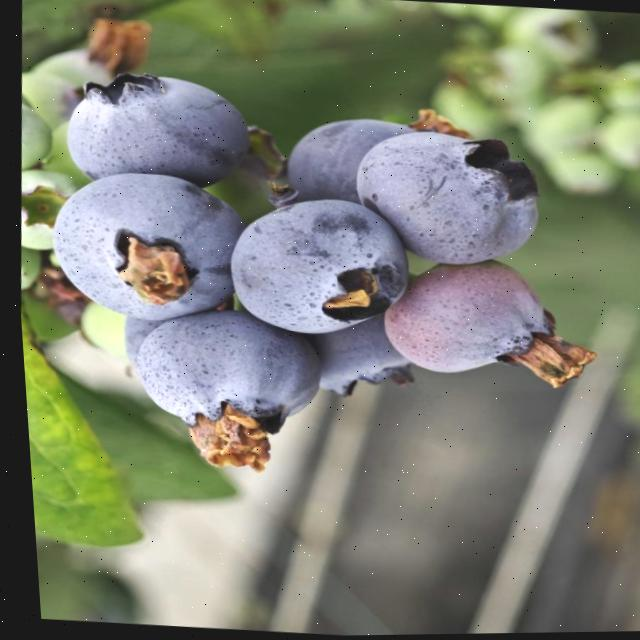RipeBlueBerry: (37, 163, 246, 328), (214, 187, 417, 343), (343, 122, 550, 274), (120, 308, 328, 457), (54, 61, 260, 190)
Semi-RipeBlueBerry: (367, 251, 585, 390)
